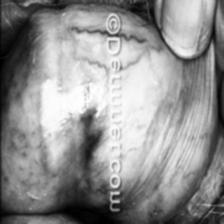Toxin: (69, 99, 103, 181)
